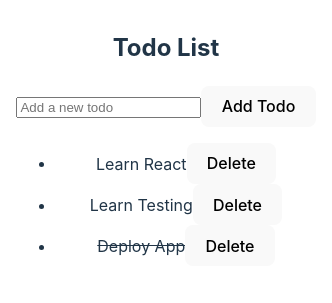
Test: TodoList Component › deletes a todo item
This screenshot has width=332, height=303.
Type "Delete this todo" into the field with placeholder "Add a new todo" at (109, 108), box [16,97,202,118]
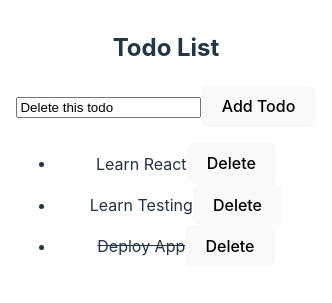
Click the button "Add Todo" at (259, 106), box [202,86,316,127]
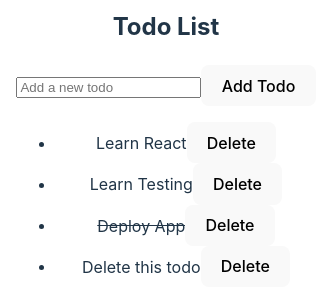
Click the button "Delete" next to "Delete this todo" at (245, 266), box [201,246,290,287]
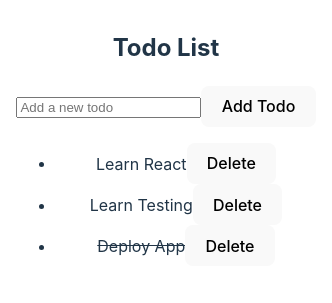
Expected: the text "Delete this todo" is gone
